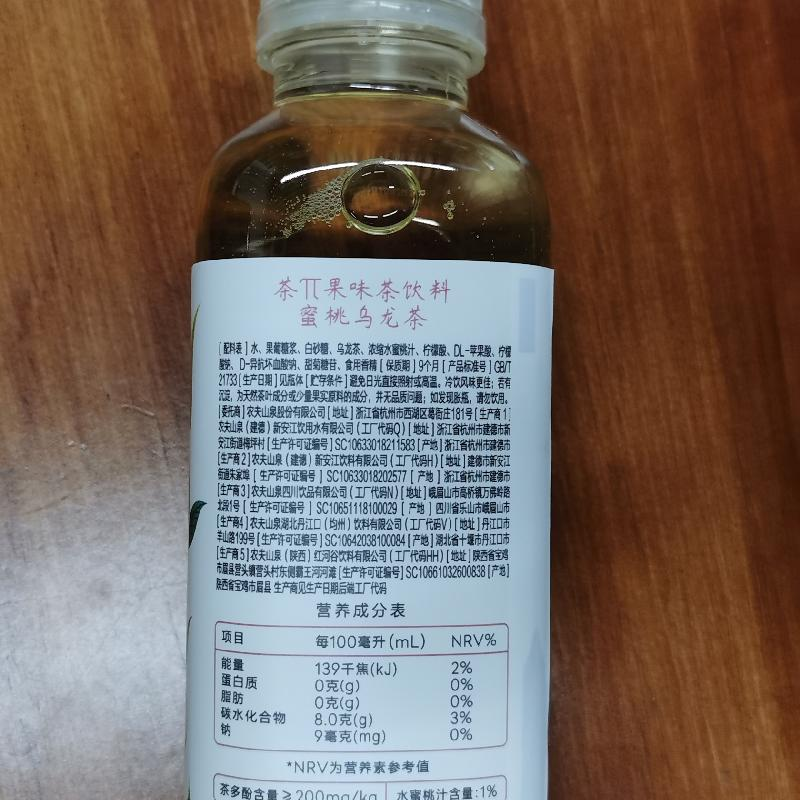bottles: (178, 1, 559, 799)
